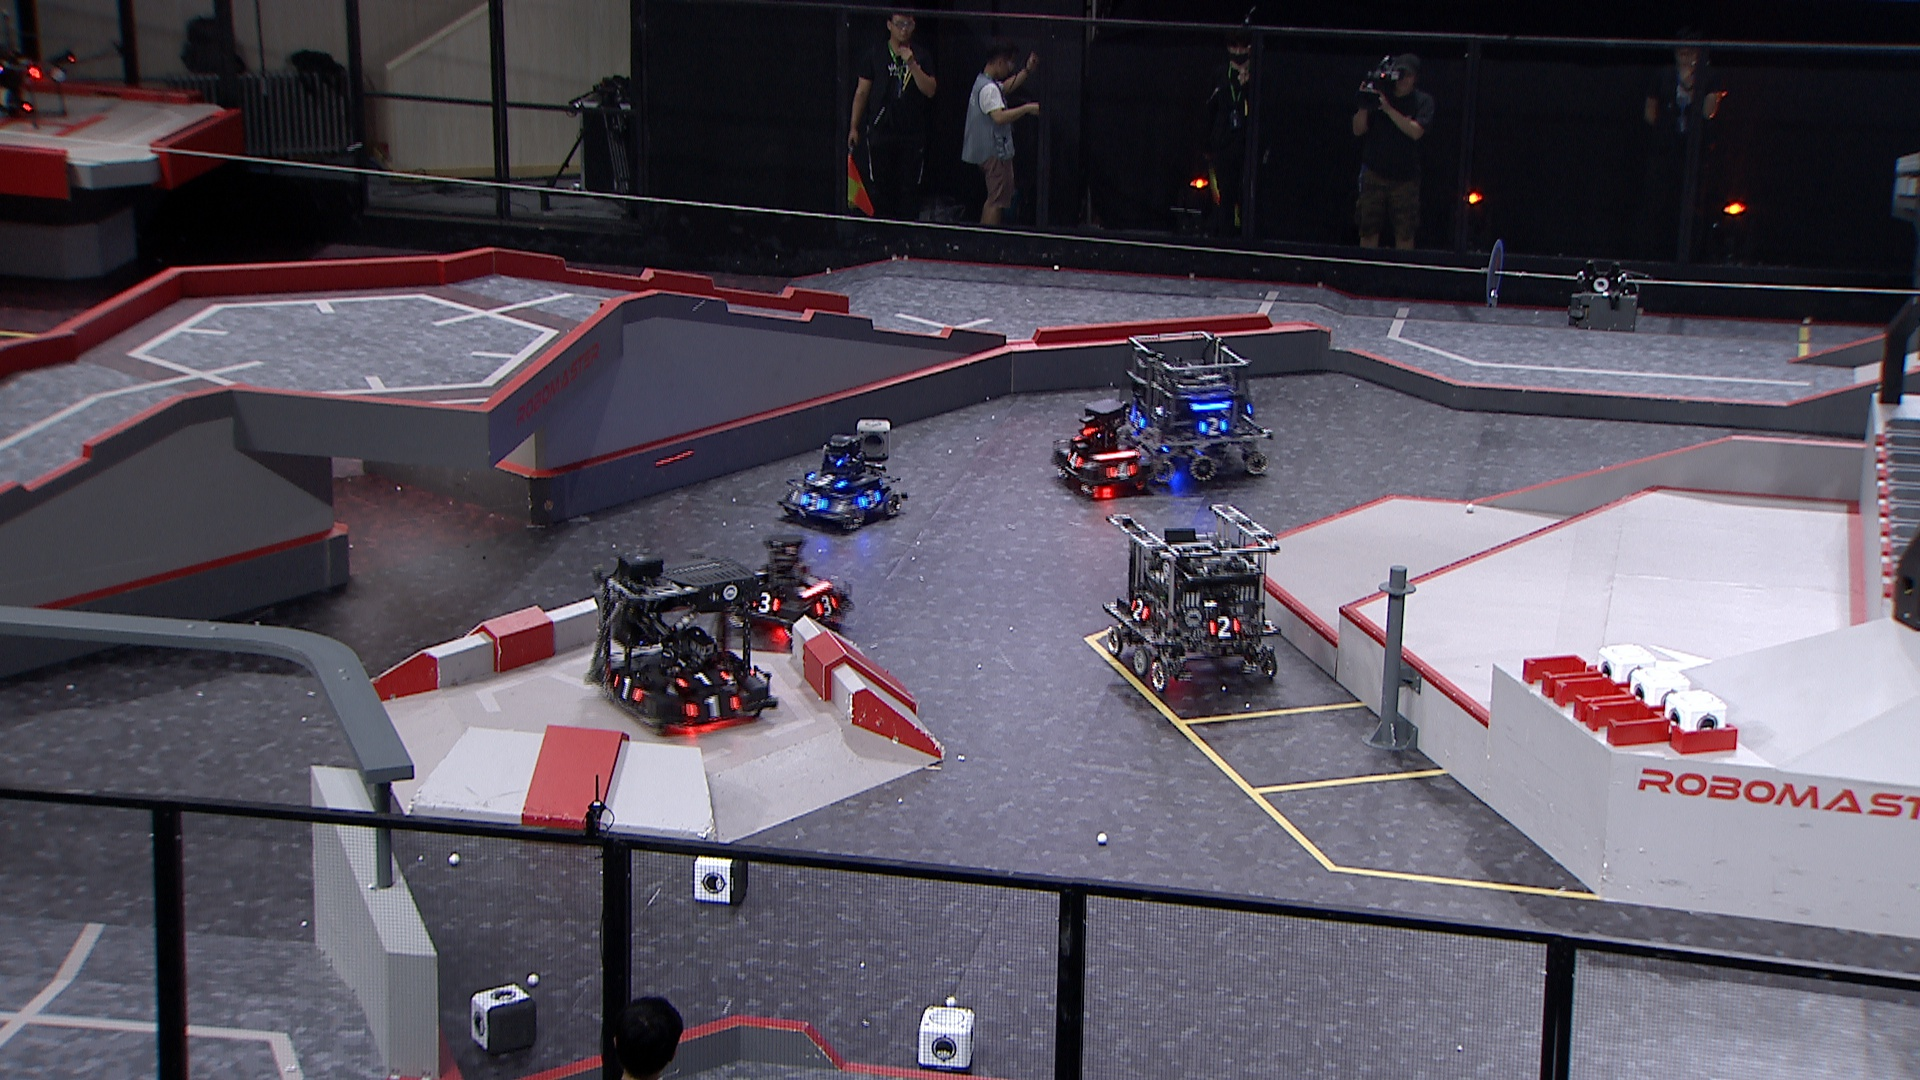armor: (680, 665, 732, 688), (688, 695, 742, 717), (608, 673, 644, 700), (1209, 617, 1242, 638), (752, 593, 781, 616), (811, 593, 837, 616), (1199, 418, 1228, 436), (1127, 599, 1149, 622), (808, 471, 840, 487), (1106, 463, 1134, 479), (858, 491, 880, 509), (803, 495, 825, 510), (1129, 406, 1145, 429), (1065, 450, 1079, 469)
car: (585, 546, 775, 736), (1102, 498, 1280, 694), (1120, 324, 1275, 483), (723, 533, 851, 636), (779, 433, 905, 527), (1048, 398, 1160, 495)
